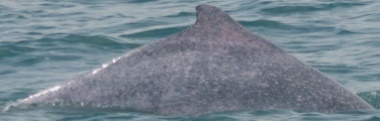fin: (6, 3, 377, 117)
